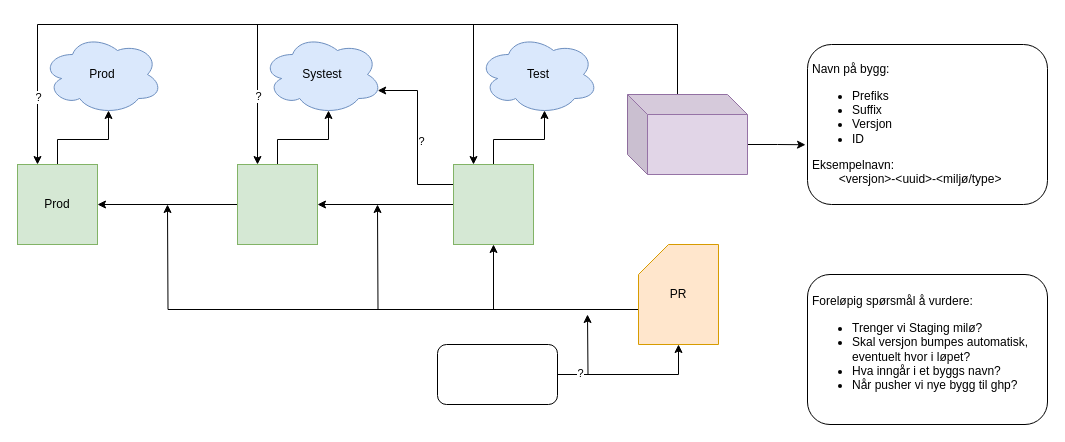
This 1065x442 diagram has some shape labels left out. The box of each missing label's shape, as (x1, y1, x2, y2) in pixels:
Automatisk bump av versjon?: (436, 344, 558, 404)
Dev: (452, 164, 534, 244)
Ny build: (626, 94, 748, 174)
Staging?: (236, 164, 318, 244)
